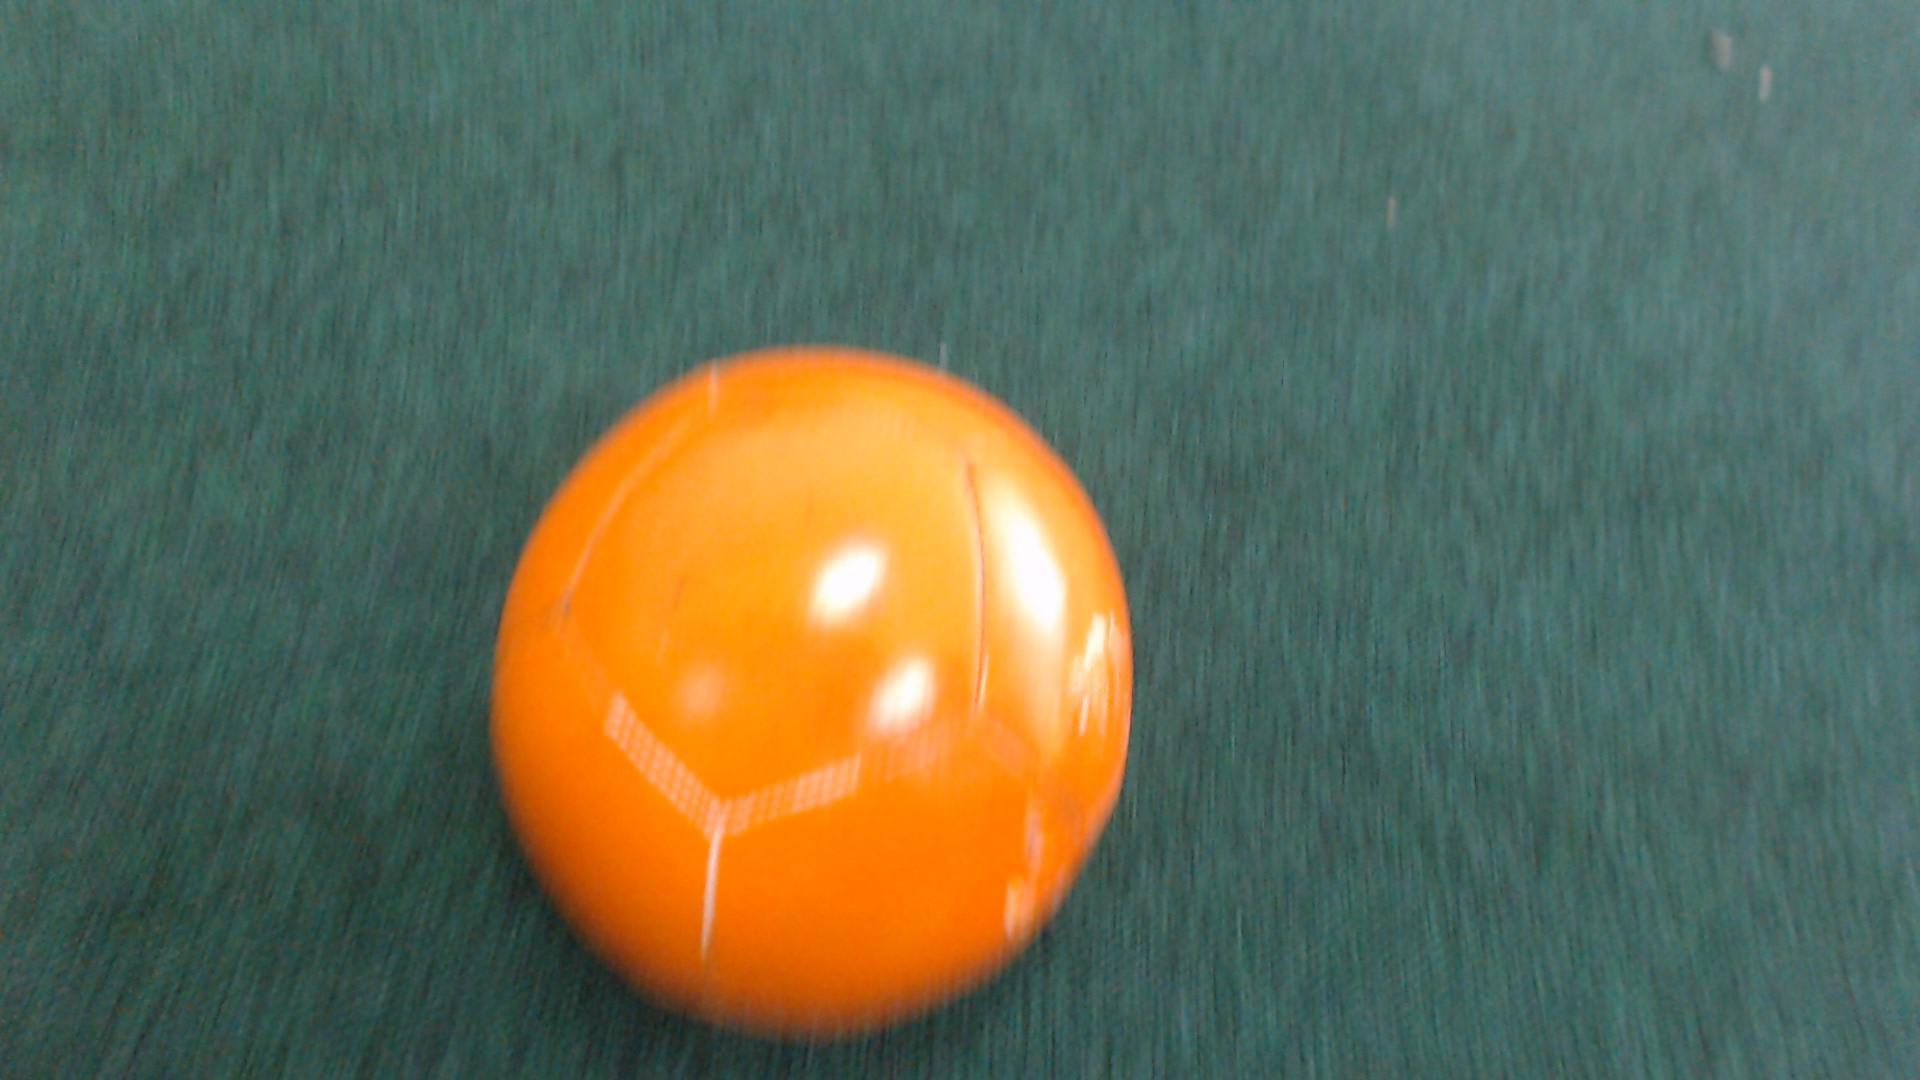bola: (355, 319, 1170, 1052)
